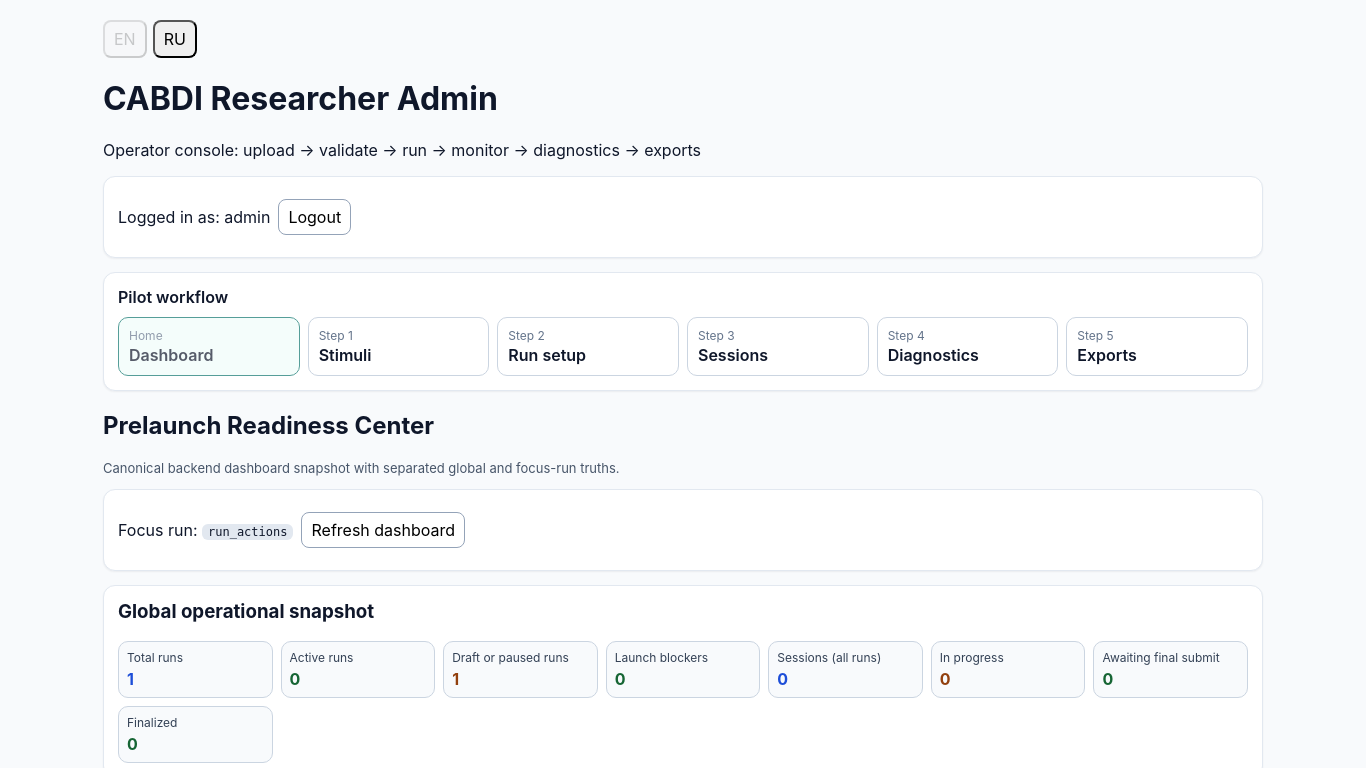
Test: researcher auth shell › localizes canonical dashboard action keys in EN and RU without backend label fallback
The image size is (1366, 768).
Expected: the text "Logged in as: admin" is shown, [118,207,270,227]
Click the button "RU". click: (175, 39)
box: [153,20,197,58]
(page scrolled)
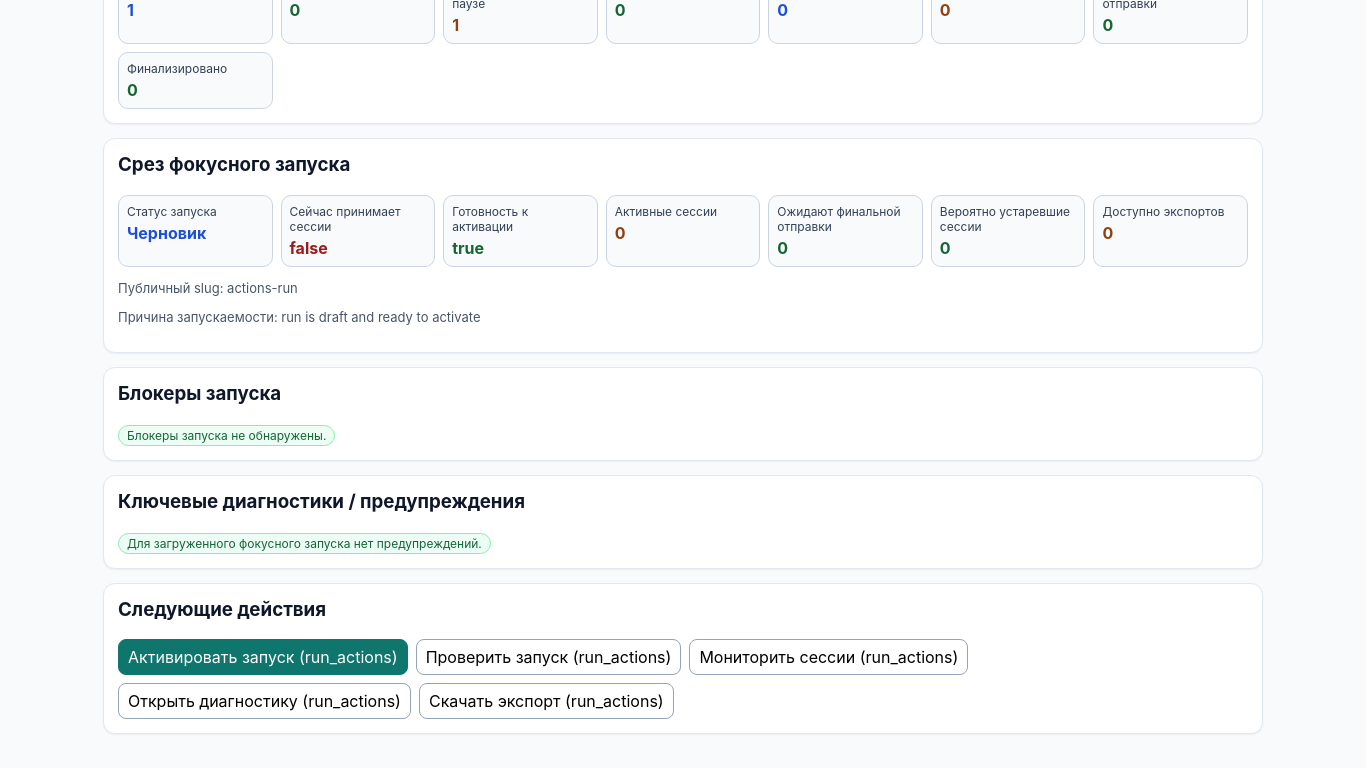
Now the button "Активировать запуск (run_actions)" is shown, box [118,639,408,675]
Now the button "Проверить запуск (run_actions)" is shown, box [416,639,681,675]
Now the button "Мониторить сессии (run_actions)" is shown, box [689,639,968,675]
